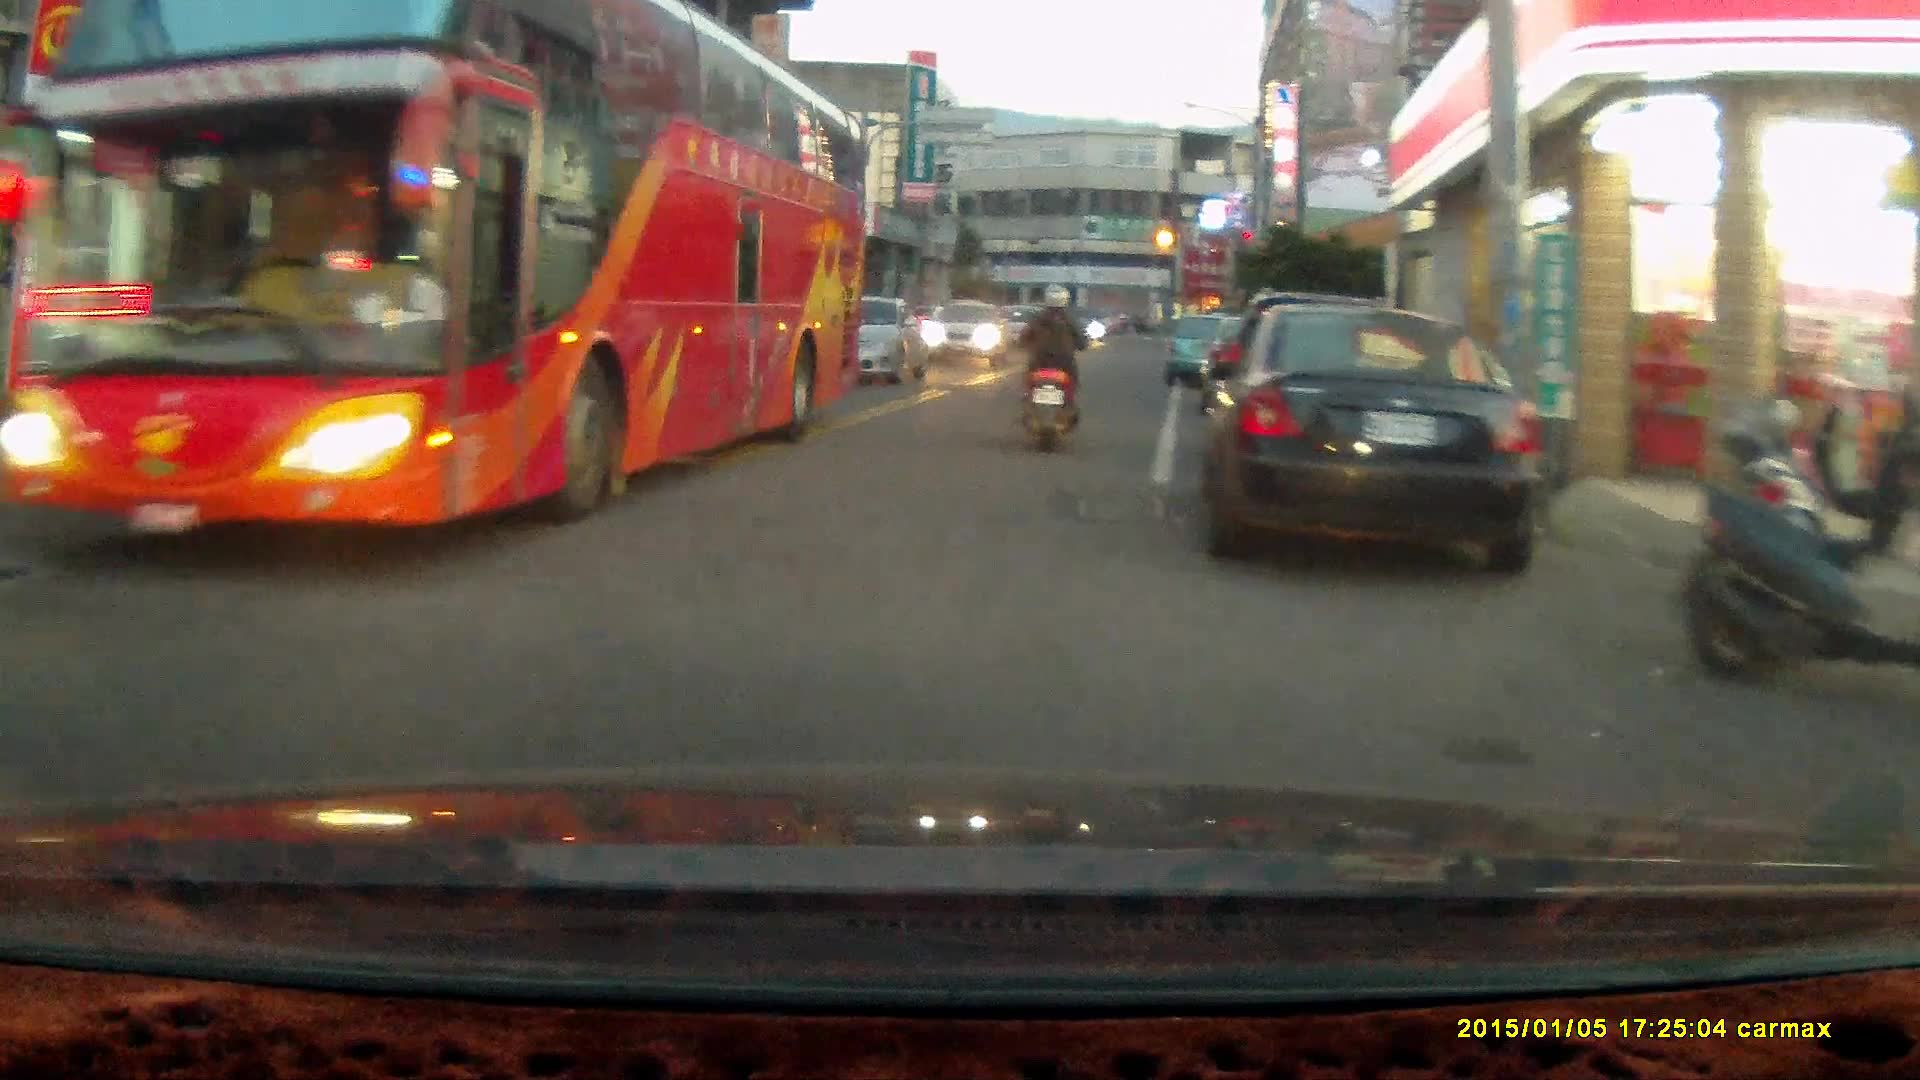rider: (1015, 283, 1089, 453)
vehicle: (47, 14, 870, 545), (1183, 299, 1545, 577), (809, 293, 920, 387), (919, 298, 1010, 366), (1166, 316, 1247, 389)
